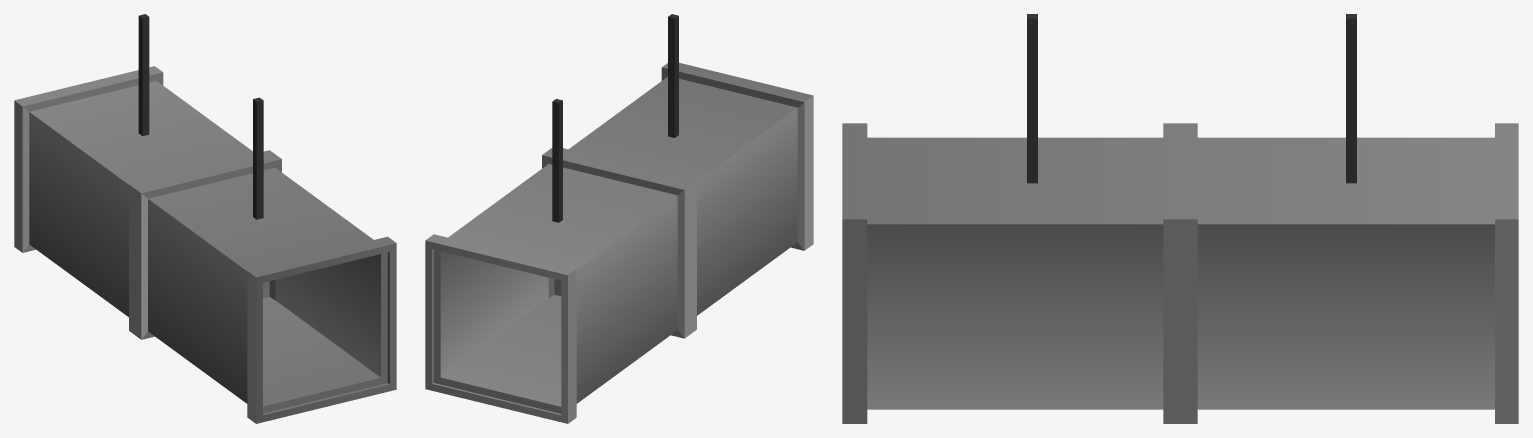
The model's file is B01_Conduit_droit.fbx.
3 renders of one model, left to right at view 1: azimuth 30°, elevation 25°; view 2: azimuth 150°, elevation 25°; view 3: azimuth 270°, elevation 25°, orthographic. The views are drawn at different scales.
Parts seen in each view (by area): view 1: B01_Conduit_droit; view 2: B01_Conduit_droit; view 3: B01_Conduit_droit.
Part boxes in pixels (<box>): B01_Conduit_droit: <box>14,14,396,423</box>; B01_Conduit_droit: <box>425,14,813,423</box>; B01_Conduit_droit: <box>842,14,1518,423</box>.
Size of the model in its own units: 42.53 by 74.38 by 127.
